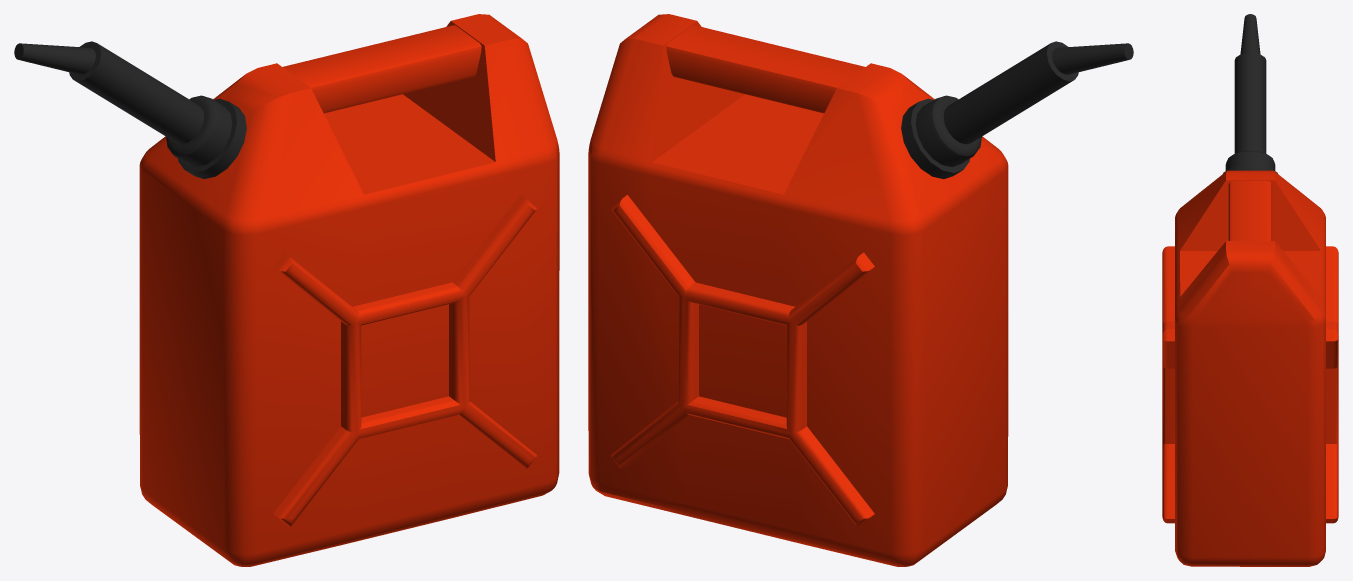
The model's file is Fuel.fbx.
3 renders of one model, left to right at view 1: azimuth 30°, elevation 25°; view 2: azimuth 150°, elevation 25°; view 3: azimuth 270°, elevation 25°, orthographic. The views are drawn at different scales.
Parts seen in each view (by area): view 1: Bidon; view 2: Bidon; view 3: Bidon.
Boxes of the visible parts, left/top/right/bottom form: Bidon: left=14, top=14, right=559, bottom=566; Bidon: left=588, top=14, right=1133, bottom=566; Bidon: left=1162, top=14, right=1338, bottom=566.
Bounding box in the file's own units: 953 × 979 × 406.
